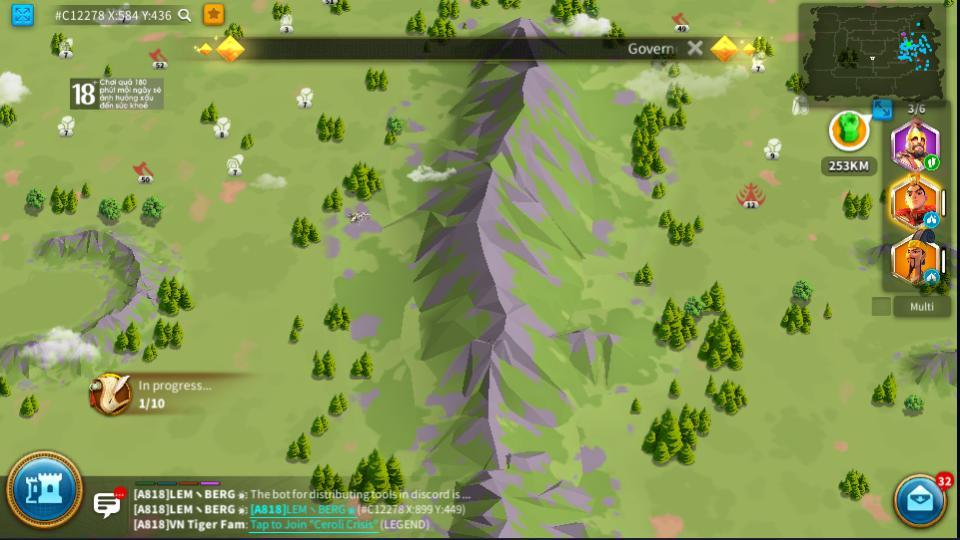march_idle: (923, 270, 939, 282), (923, 213, 938, 225)
march_marching: (922, 156, 938, 169)
